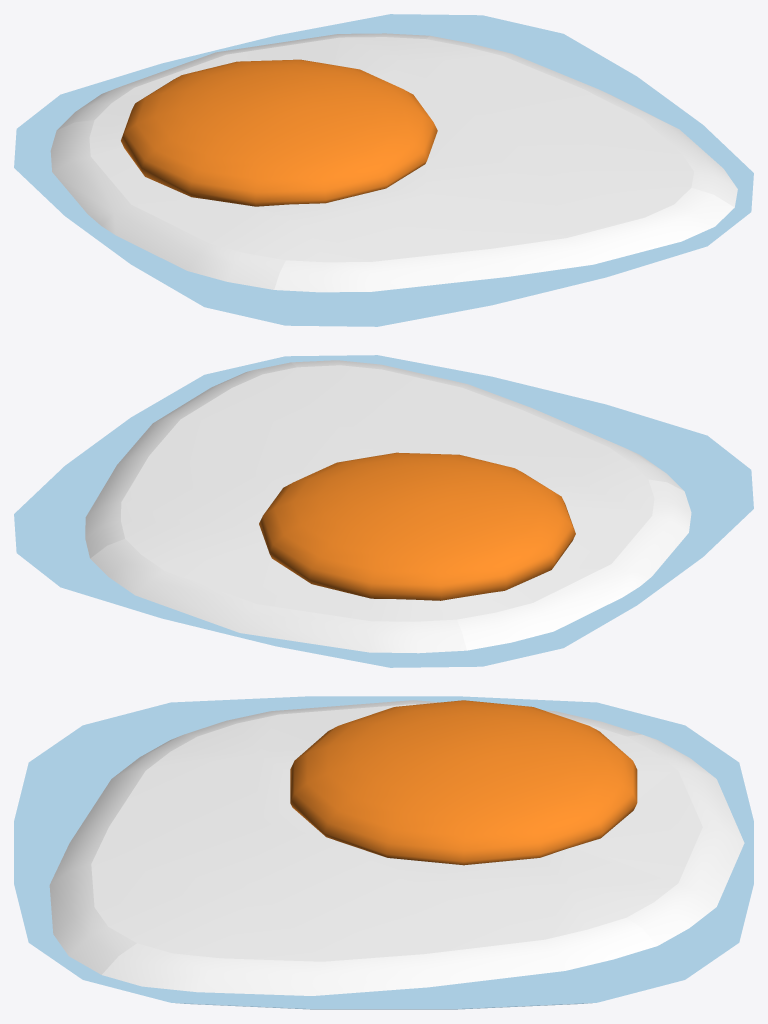
File: Fegg.obj
3 views of the same model, one above another, from view 1: azimuth 30°, elevation 25°; view 2: azimuth 150°, elevation 25°; view 3: azimuth 270°, elevation 25° (orthographic). The views are drawn at different scales.
Parts seen in each view (by area): view 1: pSphere3, pCube2; view 2: pSphere3, pCube2; view 3: pSphere3, pCube2.
Part boxes in pixels (x1,y1,x2,y2): pSphere3: (50, 33, 737, 292); pCube2: (14, 14, 753, 326); pSphere3: (85, 360, 691, 653); pCube2: (14, 355, 753, 667); pSphere3: (49, 700, 744, 995); pCube2: (14, 696, 753, 1009).
Bounding box in the file's own units: 11.72 × 1.63 × 11.72.
Materials: 1 (1 with a texture image).
